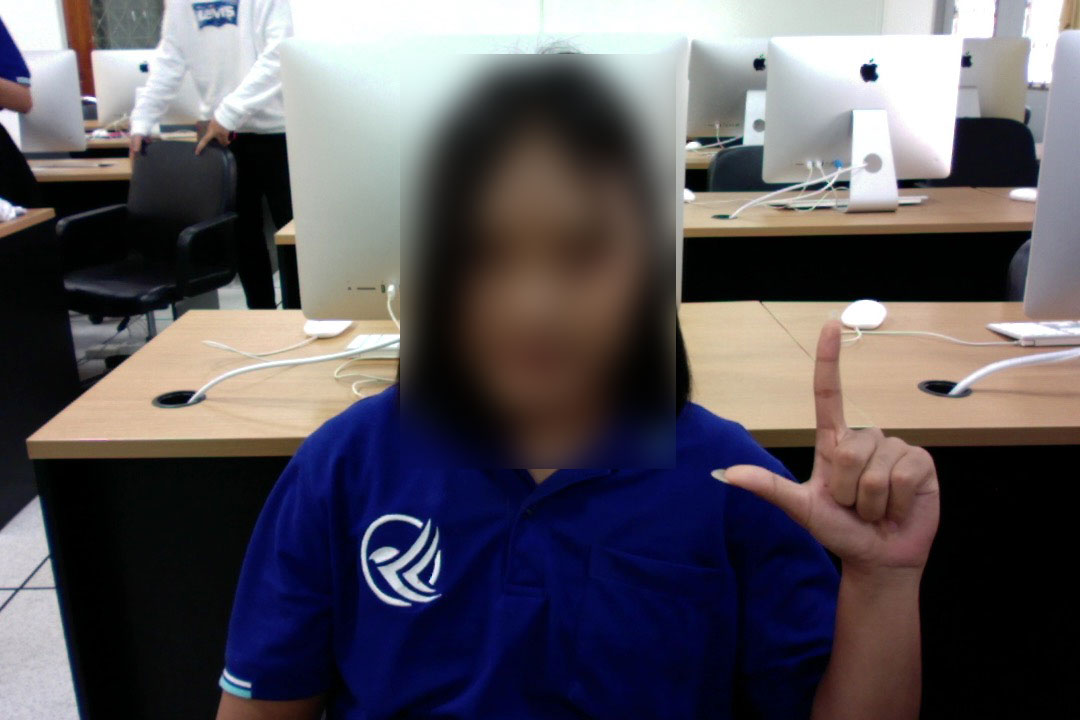lor: (706, 306, 956, 610)
